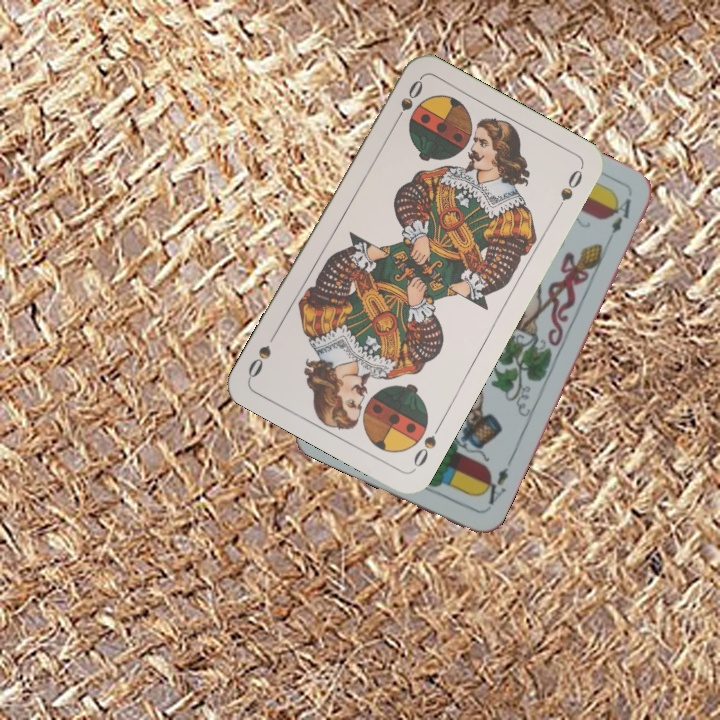EA: (476, 463, 511, 513)
SO: (389, 75, 426, 129), (409, 419, 445, 473)
